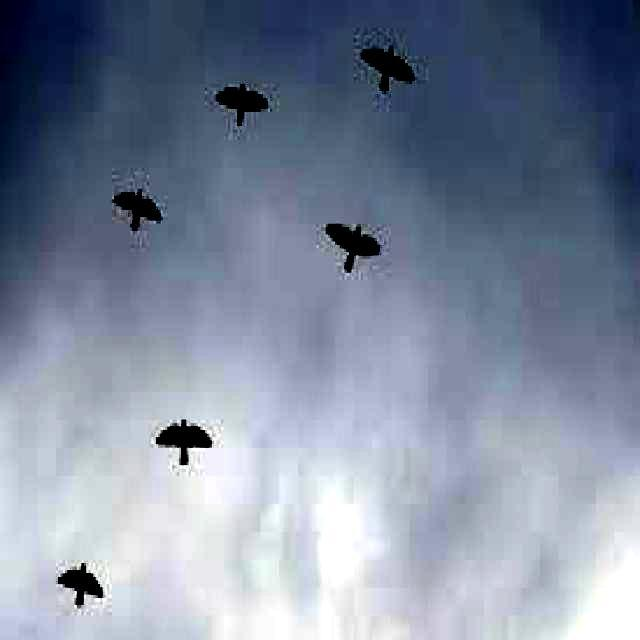bird: (323, 214, 383, 276), (57, 552, 115, 616), (356, 40, 418, 99), (206, 79, 276, 130), (107, 185, 172, 238), (155, 414, 216, 469)
